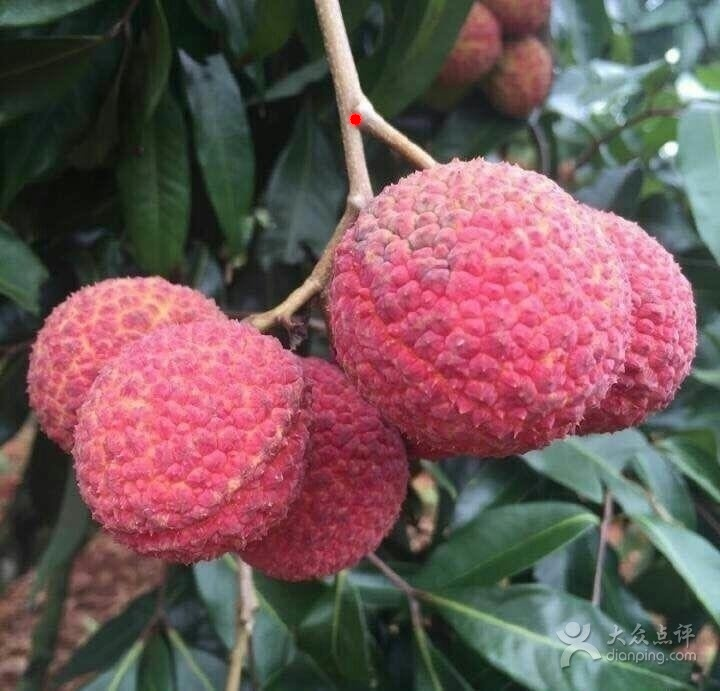litchi: (26, 158, 699, 584)
stem: (314, 1, 393, 163)
